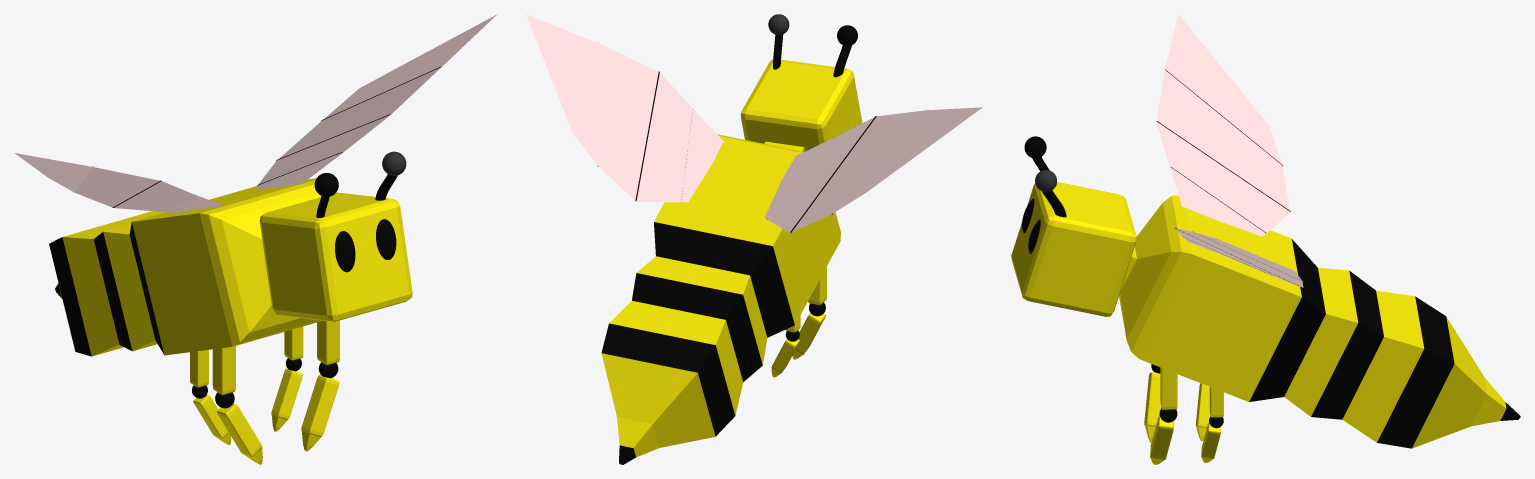
Rendered from Abelha.fbx.
The picture shows the model from 3 angles, left to right: view 1: azimuth 30°, elevation 25°; view 2: azimuth 150°, elevation 25°; view 3: azimuth 270°, elevation 25°; orthographic projection. The views are drawn at different scales.
Parts seen in each view (by area): view 1: Cube, Plane, Cube.002, Cube.003, Cylinder, Cylinder.001; view 2: Cube, Plane, Cube.002, Cube.003, Cylinder.001, Cylinder; view 3: Cube, Plane, Cube.002, Cube.003, Cylinder, Cylinder.001.
Part boxes in pixels (x1,y1,x2,y2): Cube: [49, 178, 412, 356]; Plane: [15, 14, 497, 212]; Cube.002: [212, 320, 339, 464]; Cube.003: [190, 326, 303, 445]; Cylinder: [375, 151, 406, 200]; Cylinder.001: [314, 173, 338, 217]; Cube: [601, 59, 862, 464]; Plane: [526, 14, 982, 233]; Cube.002: [792, 267, 826, 359]; Cube.003: [771, 315, 800, 377]; Cylinder.001: [833, 25, 857, 77]; Cylinder: [768, 14, 789, 69]; Cube: [1011, 182, 1520, 448]; Plane: [1156, 14, 1304, 288]; Cube.002: [1144, 364, 1177, 464]; Cube.003: [1196, 383, 1223, 462]; Cylinder: [1035, 170, 1066, 217]; Cylinder.001: [1024, 136, 1056, 185].
Bounding box in the file's own units: 717 × 687 × 485.
